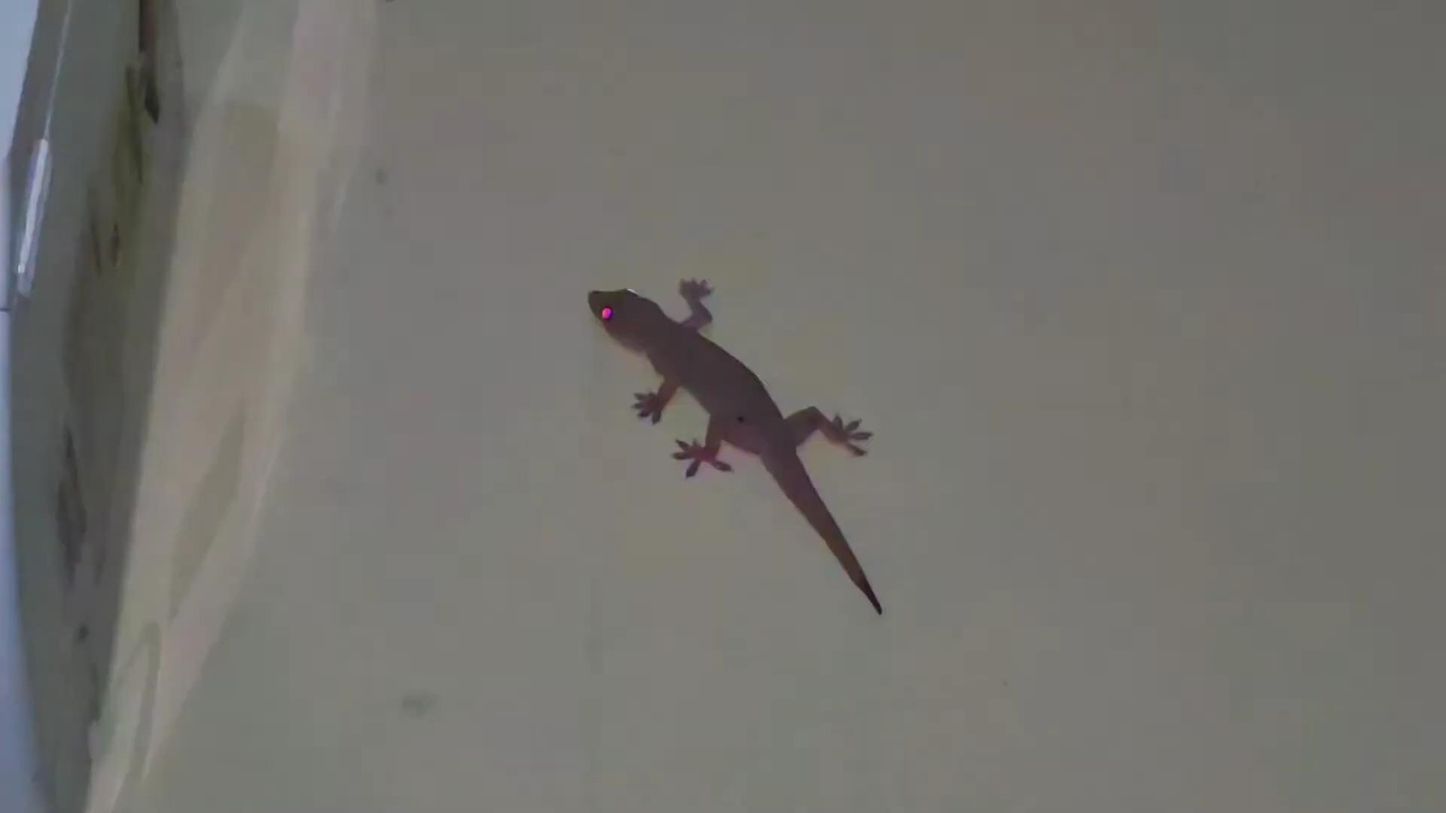lizard: (550, 254, 899, 614)
